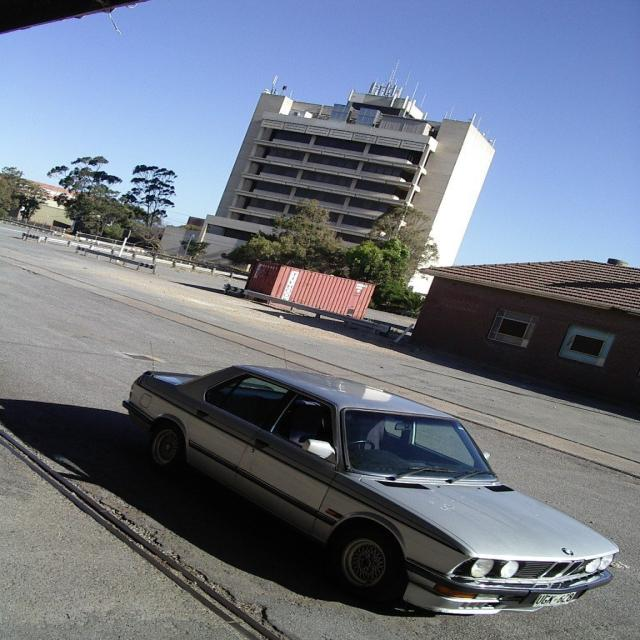car: (119, 368, 617, 620)
